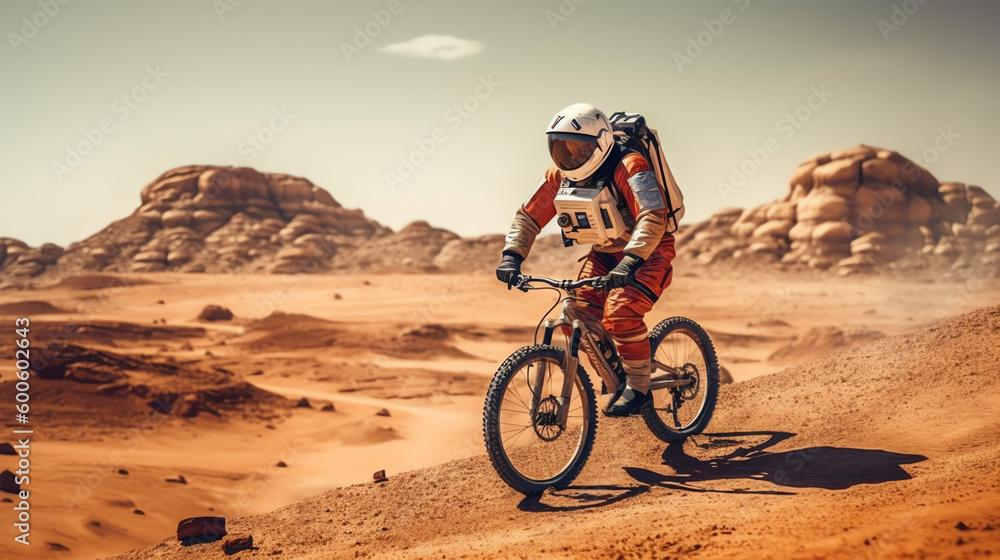helmet: (545, 102, 615, 183)
